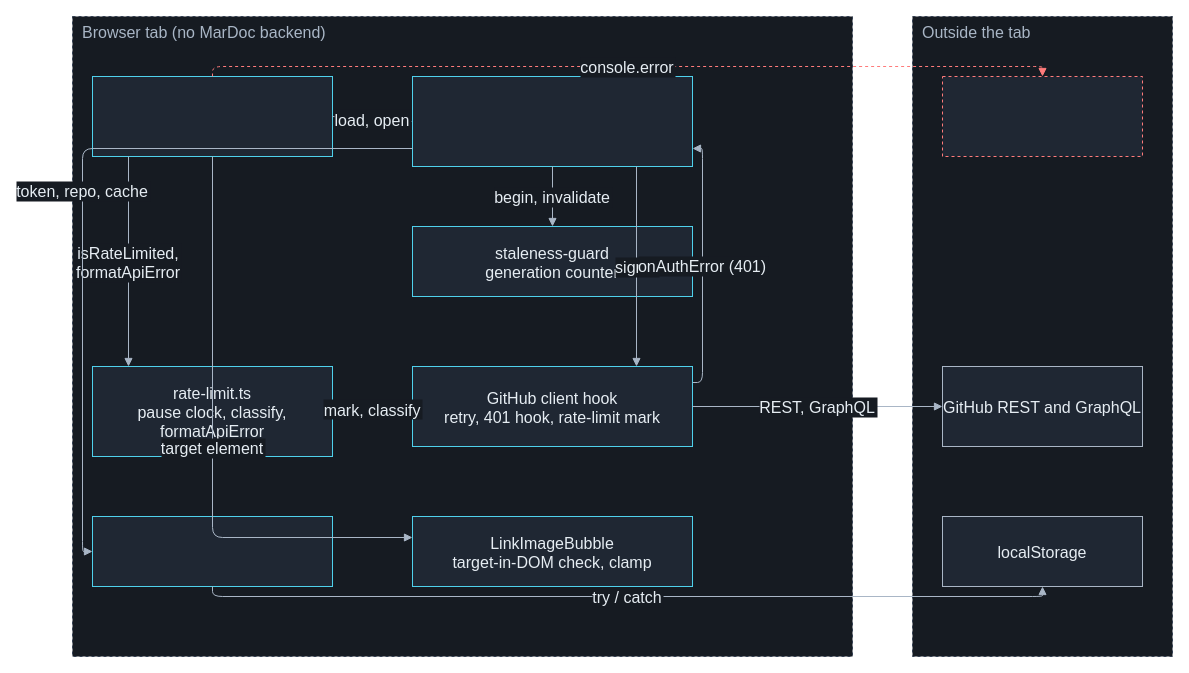
This 1189x673 diagram has some shape labels left out. The centre of each missing label's shape, as x and y in pixels:
"app-context load guards, abort signals, invalidateNavigation" goes at pixel 552 121.
"Browser console (console.log / error)" goes at pixel 1042 116.
"safe-storage get / set / remove" goes at pixel 212 551.
"Screens PRDetail, SettingsPanel, editor" goes at pixel 212 116.
